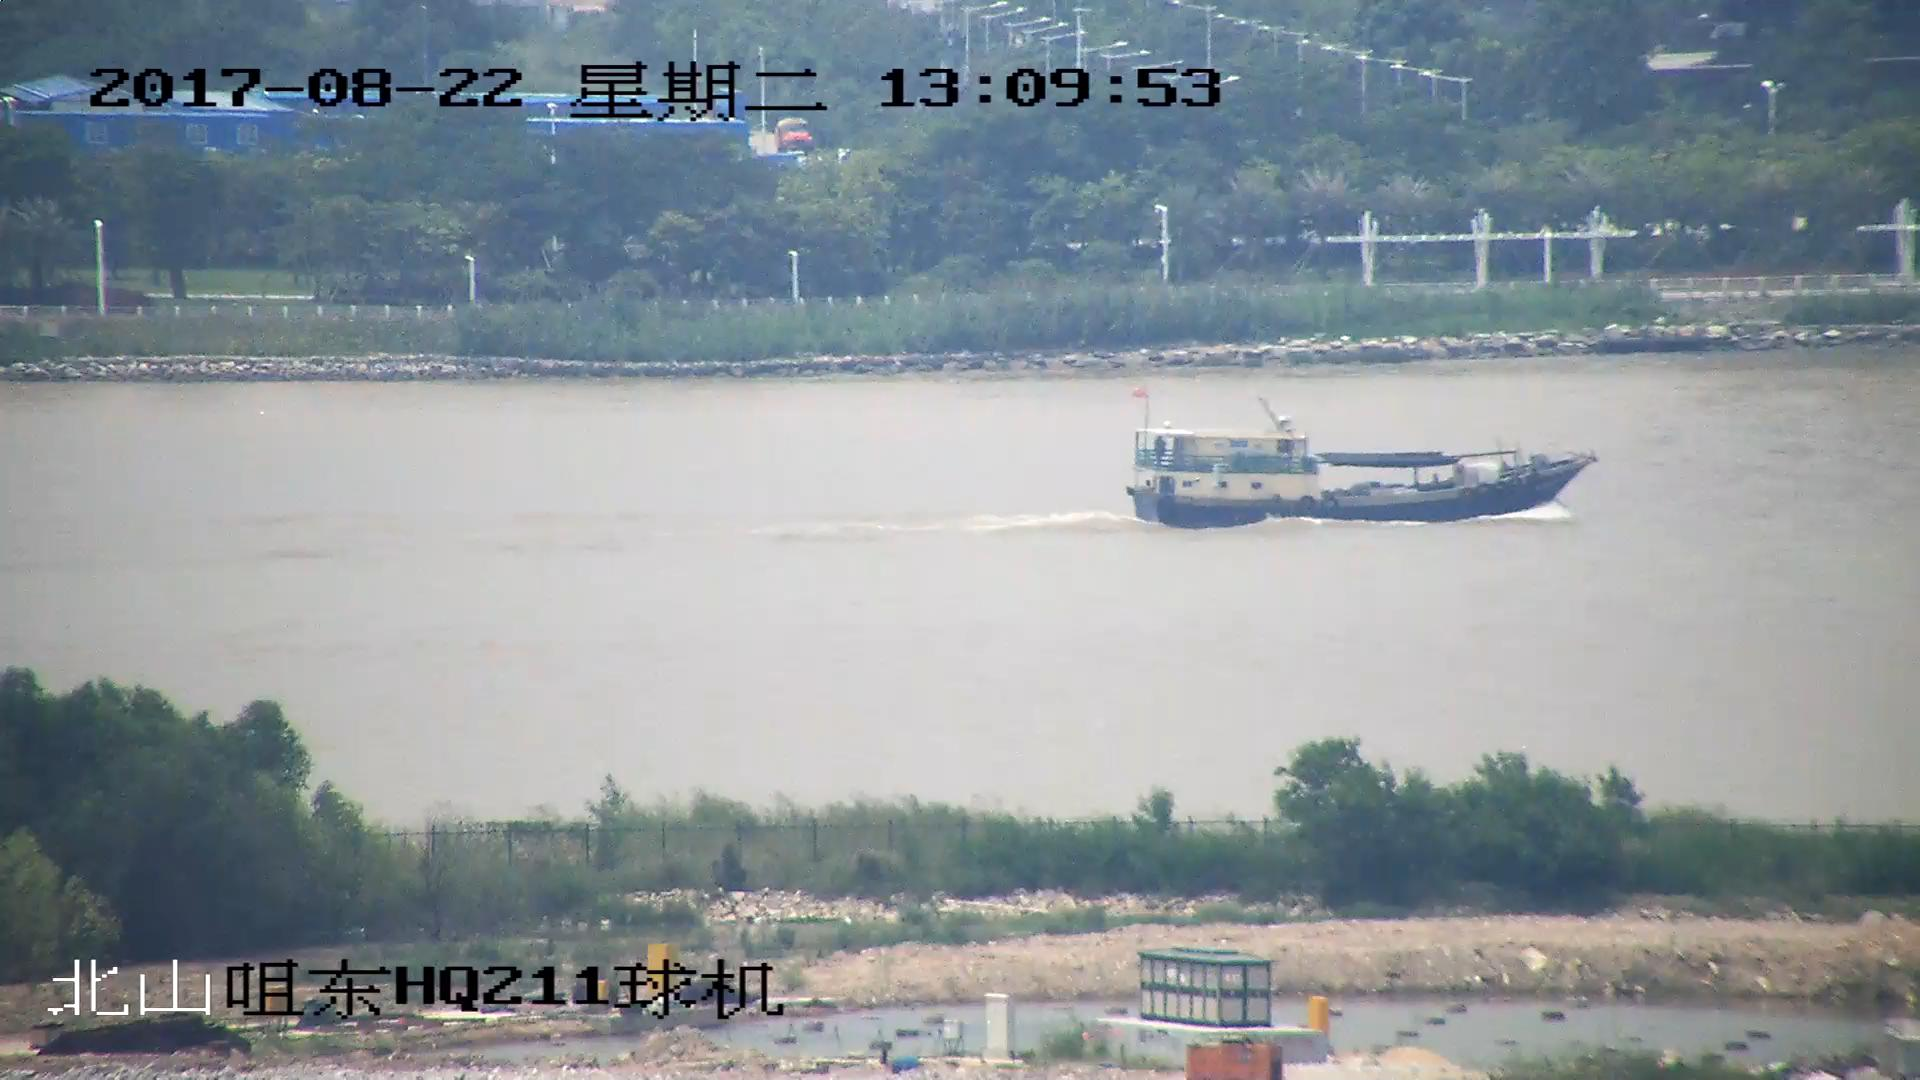fishing boat: (1128, 396, 1599, 527)
